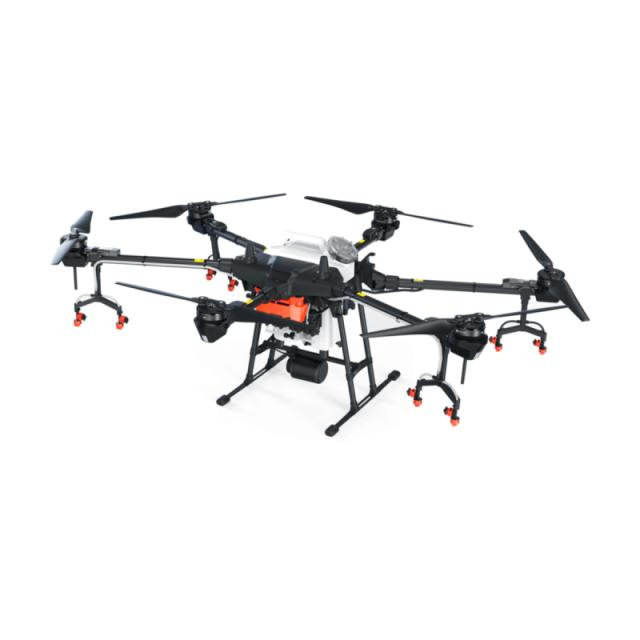drone: (41, 192, 631, 443)
